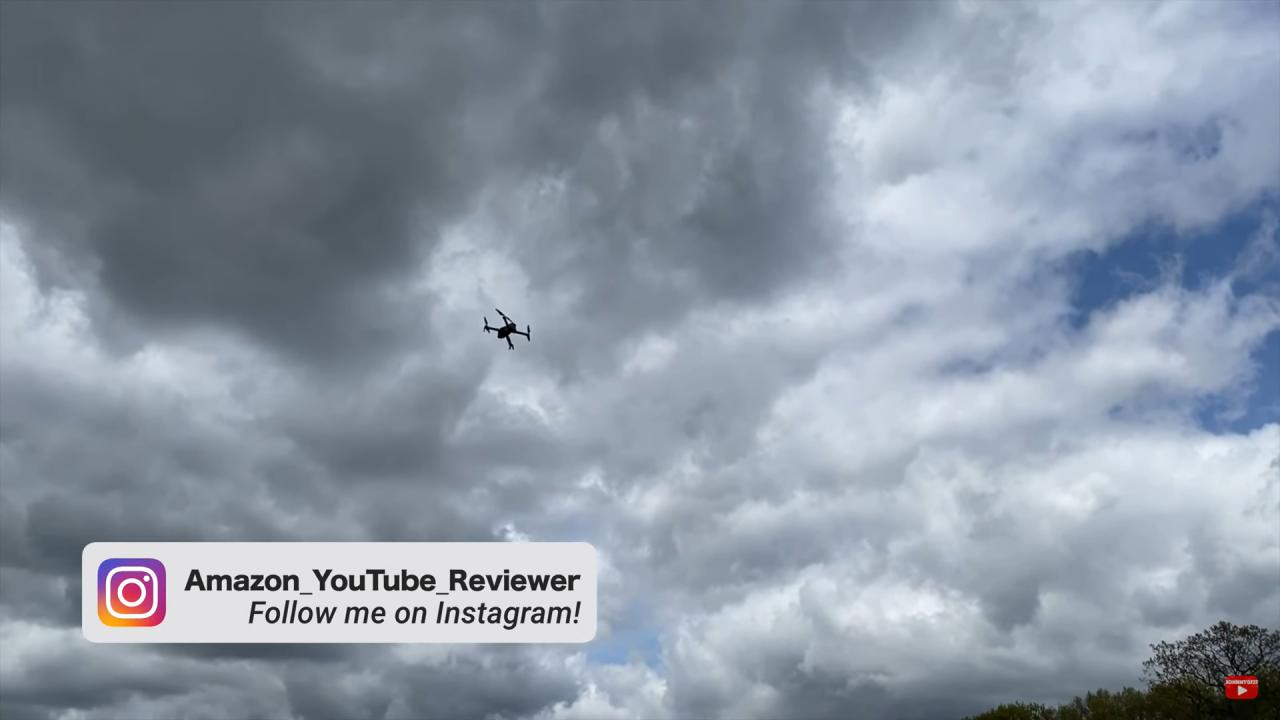Drone: (476, 297, 542, 361)
